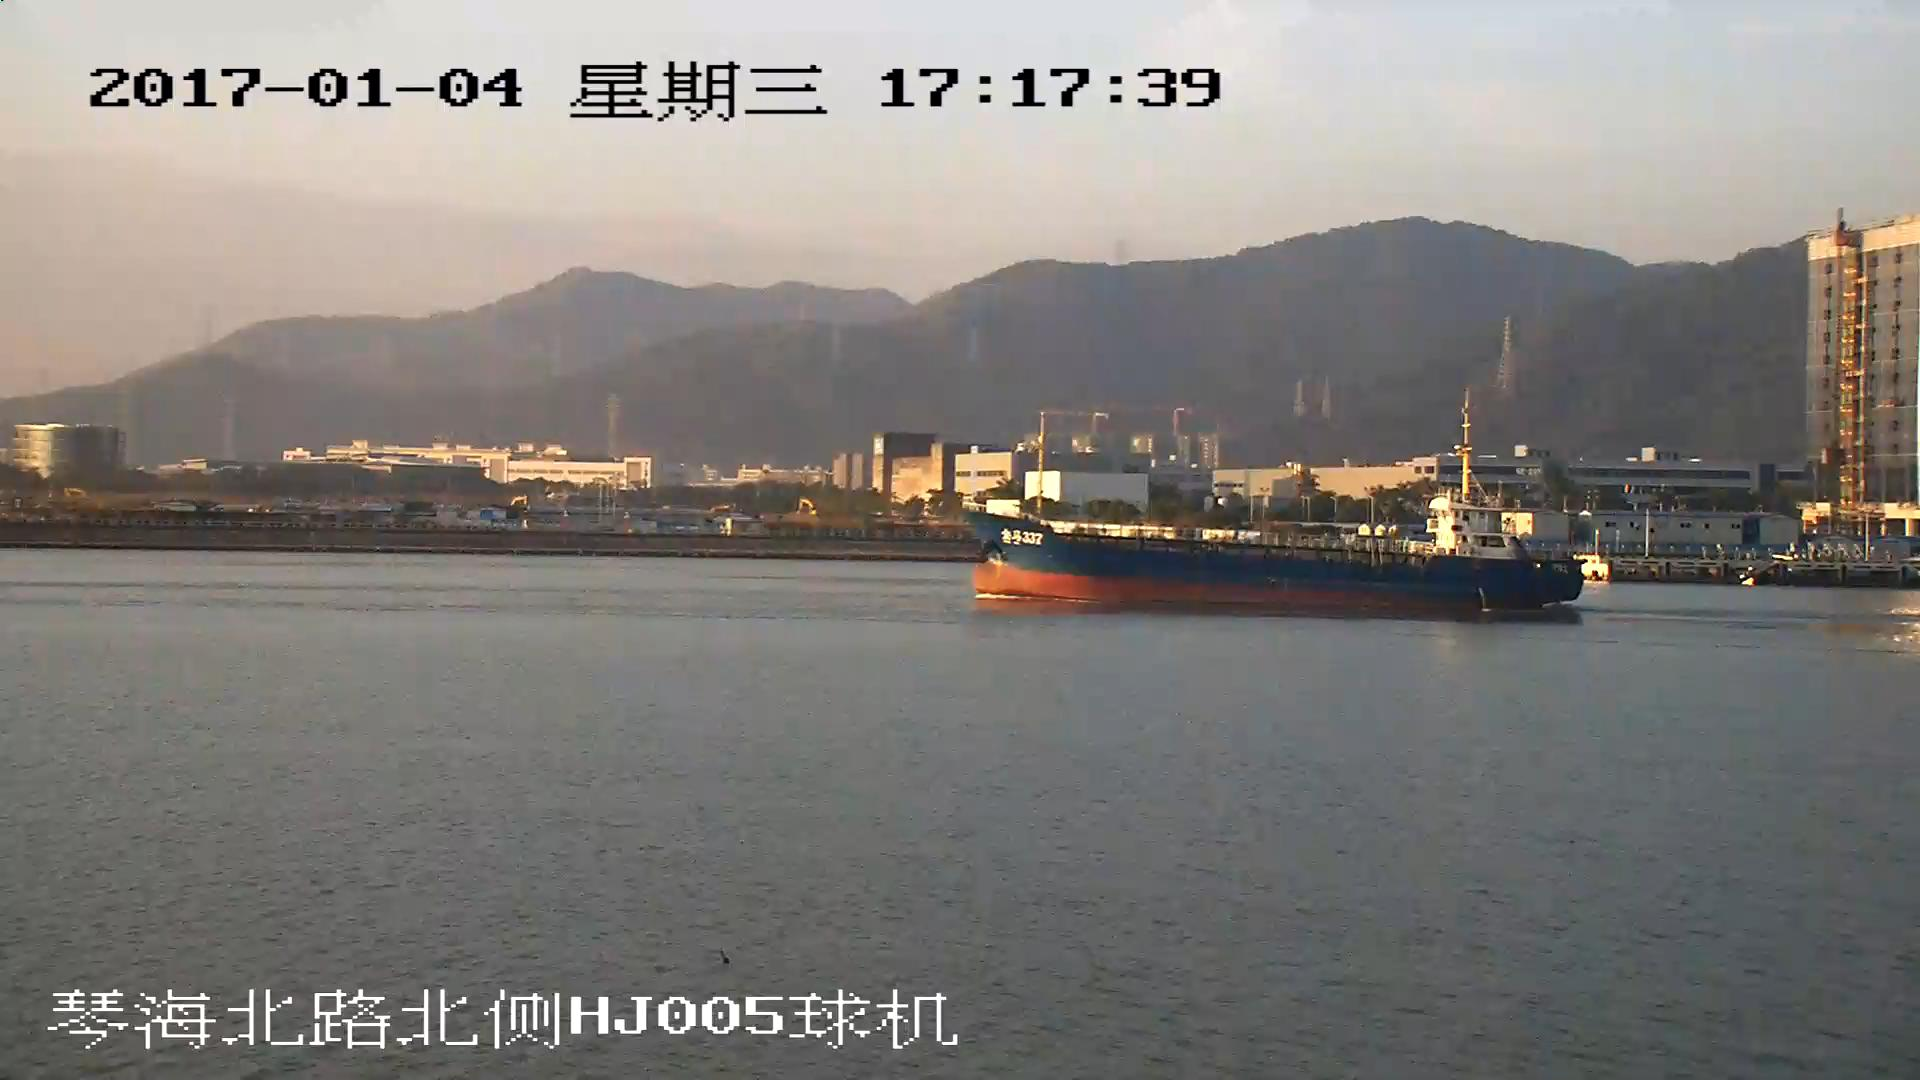general cargo ship: (960, 408, 1583, 615)
